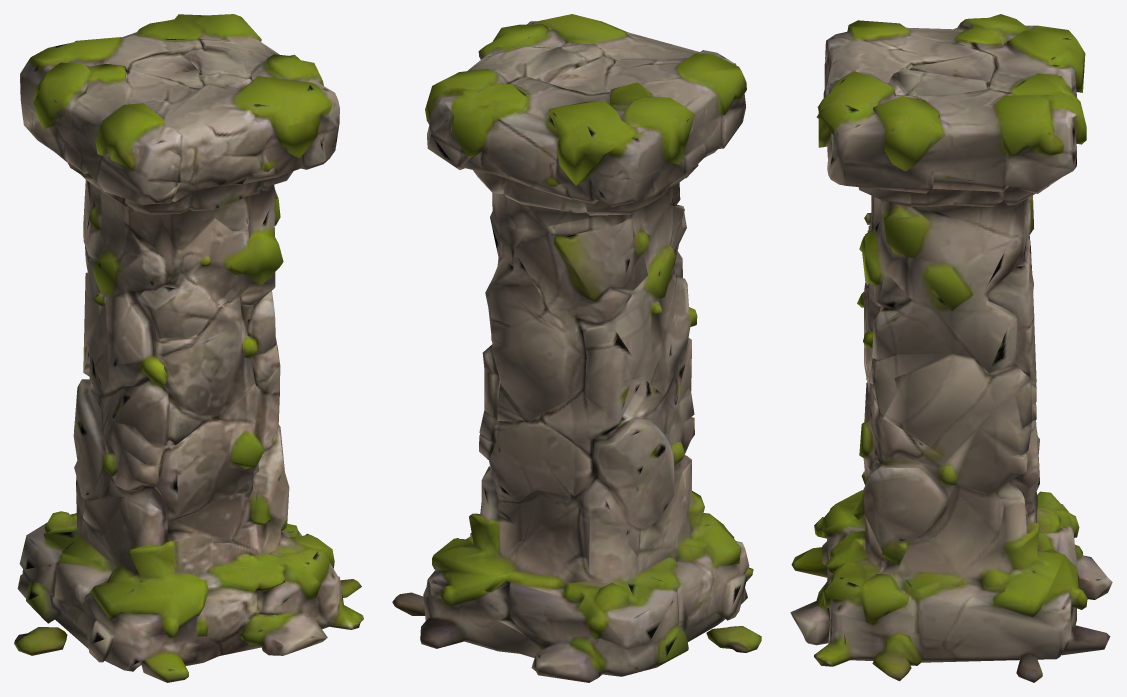
File: coluna.glb
3 views of the same model, side by side, from view 1: azimuth 30°, elevation 25°; view 2: azimuth 150°, elevation 25°; view 3: azimuth 270°, elevation 25° (orthographic).
Parts seen in each view (by area): view 1: tripo_node_1c95718b-98c8-43c1-8ed7-30e27d4e7933; view 2: tripo_node_1c95718b-98c8-43c1-8ed7-30e27d4e7933; view 3: tripo_node_1c95718b-98c8-43c1-8ed7-30e27d4e7933.
Boxes of the visible parts, left/top/right/bottom form: tripo_node_1c95718b-98c8-43c1-8ed7-30e27d4e7933: left=14, top=14, right=363, bottom=682; tripo_node_1c95718b-98c8-43c1-8ed7-30e27d4e7933: left=392, top=14, right=761, bottom=682; tripo_node_1c95718b-98c8-43c1-8ed7-30e27d4e7933: left=790, top=14, right=1112, bottom=682.
Size of the model in its own units: 0.5953 by 0.9762 by 0.5187.
1 material, 1 textured.
